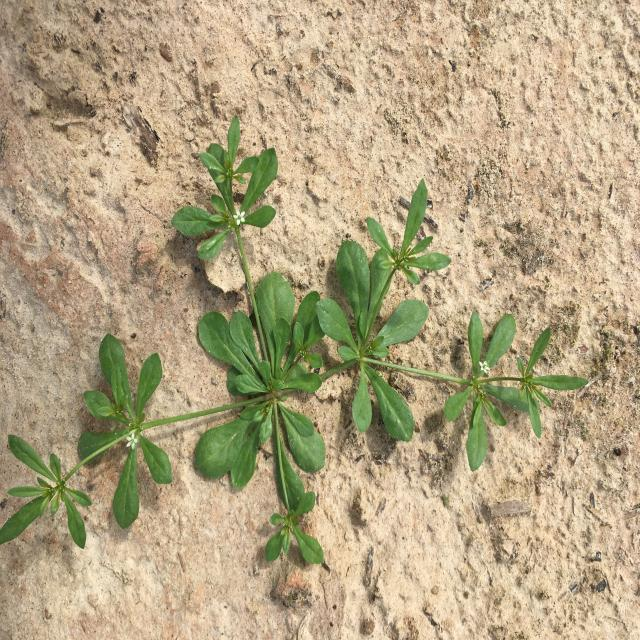Carpetweed: (0, 114, 589, 564)
